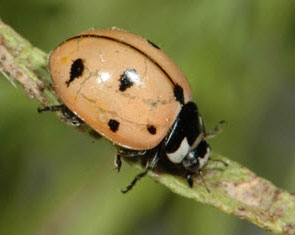convergent lady beetle: (37, 23, 230, 194)
